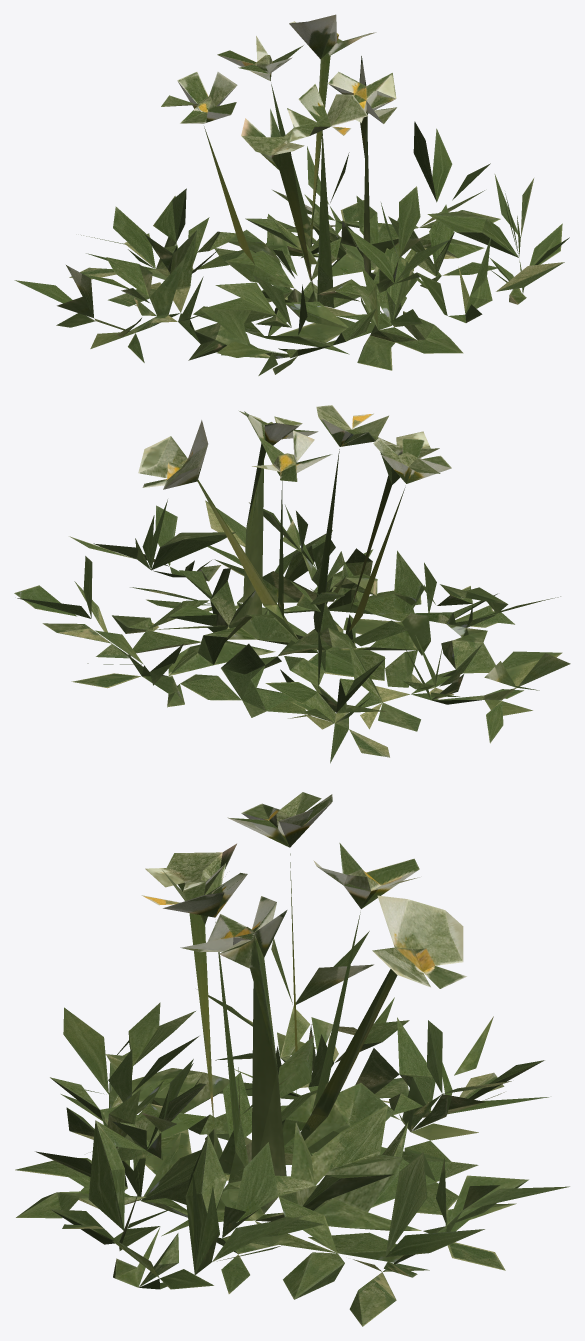
The model's file is flower.glb.
The picture shows the model from 3 angles, top to bottom: view 1: azimuth 30°, elevation 25°; view 2: azimuth 150°, elevation 25°; view 3: azimuth 270°, elevation 25°; orthographic projection. The views are drawn at different scales.
Size of the model in its own units: 1.9 by 0.9024 by 1.37.
1 material, 1 textured.
